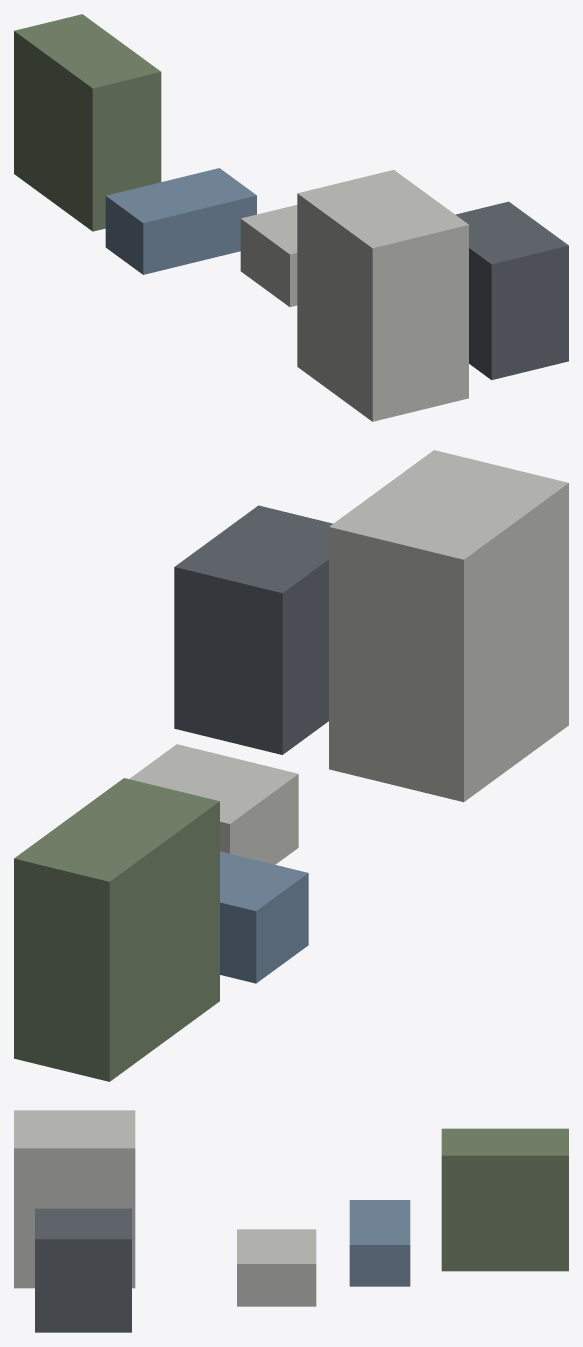
File: synth-17-01.lod2.glb
The picture shows the model from 3 angles, top to bottom: view 1: azimuth 30°, elevation 25°; view 2: azimuth 150°, elevation 25°; view 3: azimuth 270°, elevation 25°; orthographic projection. The views are drawn at different scales.
Parts seen in each view (by area): view 1: synth-17-01; view 2: synth-17-01; view 3: synth-17-01.
Part boxes in pixels (bbox=[...]): synth-17-01: bbox=[14, 14, 568, 421]; synth-17-01: bbox=[14, 450, 568, 1081]; synth-17-01: bbox=[14, 1110, 568, 1332].
Bounding box in the file's own units: 34.33 × 24.67 × 88.53.
